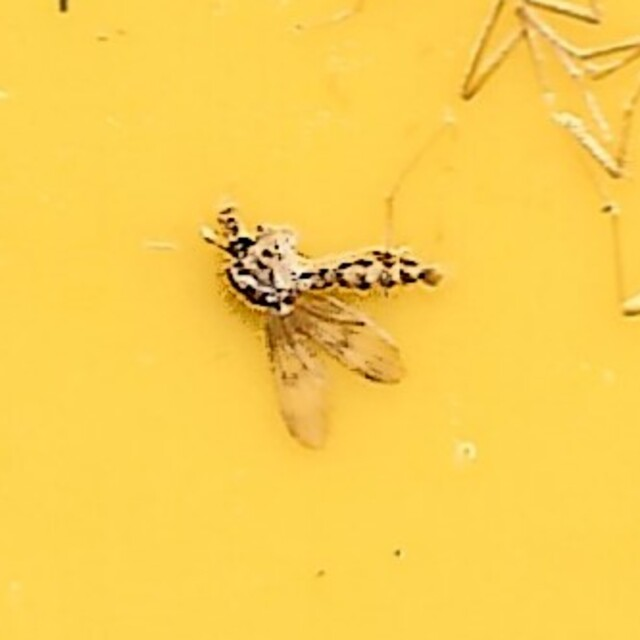Nematocera: (192, 196, 448, 444)
